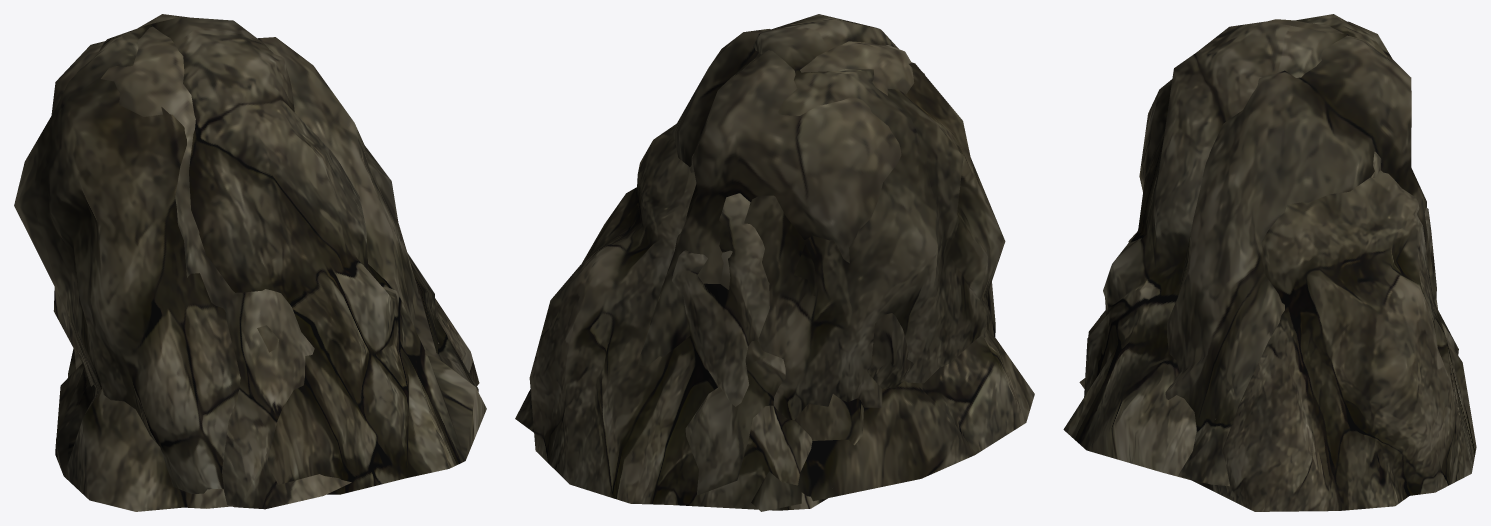
The model's file is CliffStones_02.fbx.
The picture shows the model from 3 angles, left to right: view 1: azimuth 30°, elevation 25°; view 2: azimuth 150°, elevation 25°; view 3: azimuth 270°, elevation 25°; orthographic projection. The views are drawn at different scales.
Parts seen in each view (by area): view 1: CliffStone_02_02, CliffStone_02_01, CliffStone_02_03, CliffStone_02_04; view 2: CliffStone_02_04, CliffStone_02_02, CliffStone_02_01, CliffStone_02_03; view 3: CliffStone_02_04, CliffStone_02_01, CliffStone_02_02.
Part boxes in pixels (<box>): CliffStone_02_02: <box>14,17,486,494</box>; CliffStone_02_01: <box>51,14,478,509</box>; CliffStone_02_03: <box>55,363,231,511</box>; CliffStone_02_04: <box>435,298,479,385</box>; CliffStone_02_04: <box>515,124,827,510</box>; CliffStone_02_02: <box>690,14,1005,419</box>; CliffStone_02_01: <box>637,29,914,488</box>; CliffStone_02_03: <box>685,250,1034,511</box>; CliffStone_02_04: <box>1192,170,1476,511</box>; CliffStone_02_01: <box>1079,19,1438,486</box>; CliffStone_02_02: <box>1063,14,1386,483</box>.
Size of what is drawn, in the model's own units: 135 by 129 by 126.
Materials: 1 (1 with a texture image).
